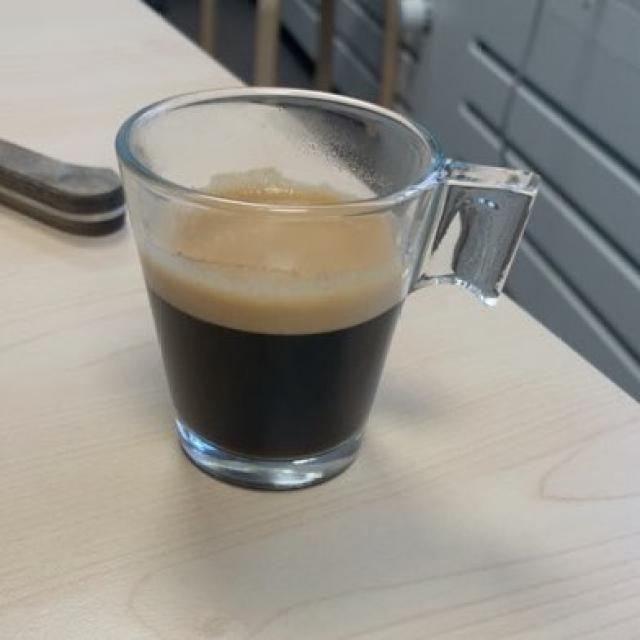espresso-with-caffeine: (148, 166, 420, 457)
